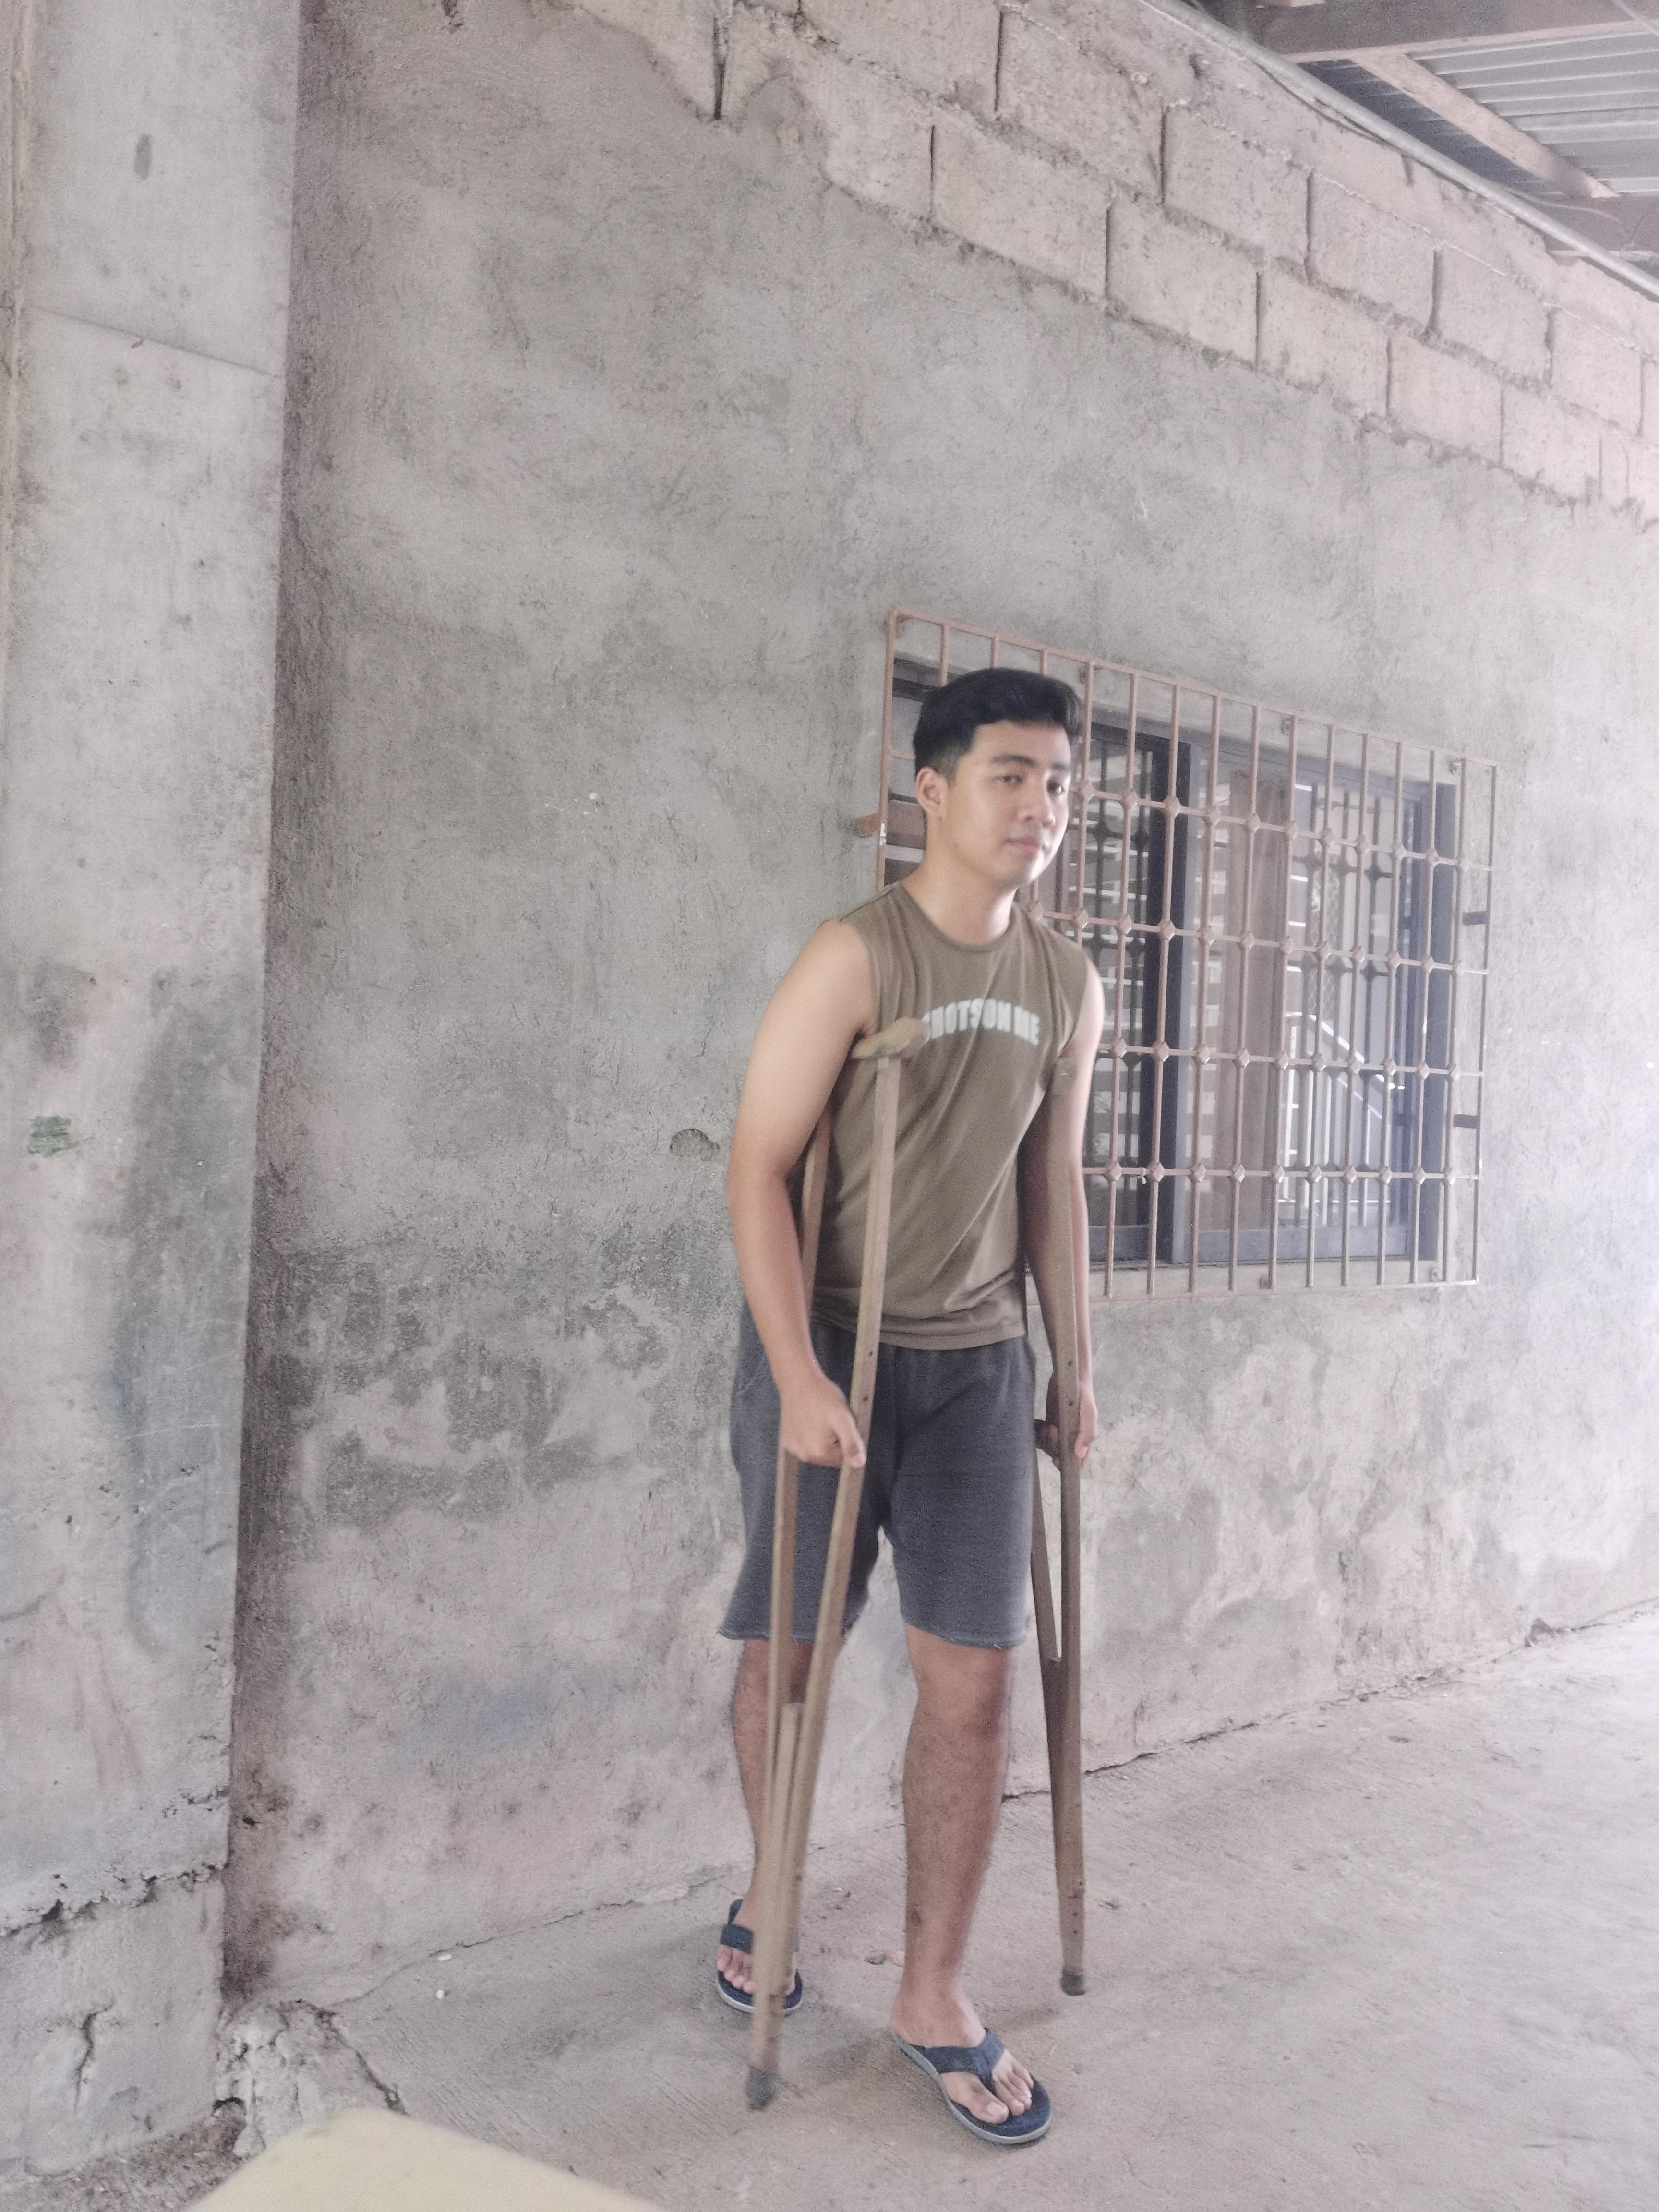crutches: (692, 644, 1117, 2165)
